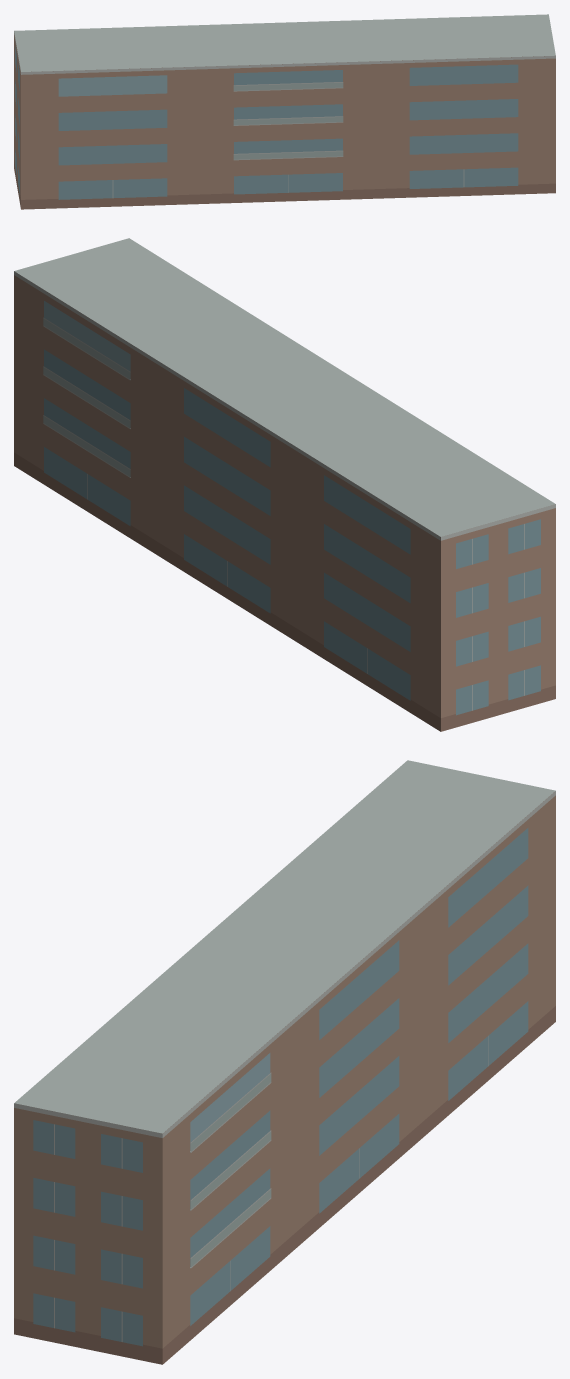
The model's file is residential-5099168a-5156-490e-8089-cad1d042cb2e.glb.
3 renders of one model, top to bottom at view 1: azimuth 30°, elevation 25°; view 2: azimuth 150°, elevation 25°; view 3: azimuth 270°, elevation 25°, orthographic. The views are drawn at different scales.
Visible parts, largest first — view 1: residential-5099168a-5156-490e-8089-cad1d042cb2e.tmp; view 2: residential-5099168a-5156-490e-8089-cad1d042cb2e.tmp; view 3: residential-5099168a-5156-490e-8089-cad1d042cb2e.tmp.
Boxes of the visible parts, left/top/right/bottom form: residential-5099168a-5156-490e-8089-cad1d042cb2e.tmp: left=14, top=14, right=555, bottom=209; residential-5099168a-5156-490e-8089-cad1d042cb2e.tmp: left=14, top=238, right=555, bottom=731; residential-5099168a-5156-490e-8089-cad1d042cb2e.tmp: left=14, top=760, right=555, bottom=1364.
Size of the model in its own units: 42.28 by 12.2 by 25.93.
